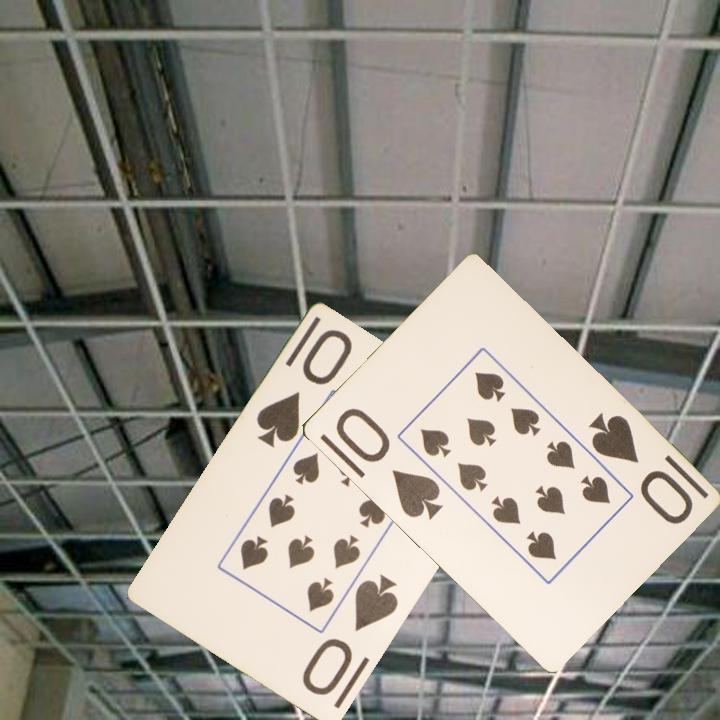10s: (331, 404, 445, 523), (584, 408, 696, 528), (298, 571, 402, 699), (252, 326, 356, 452)
